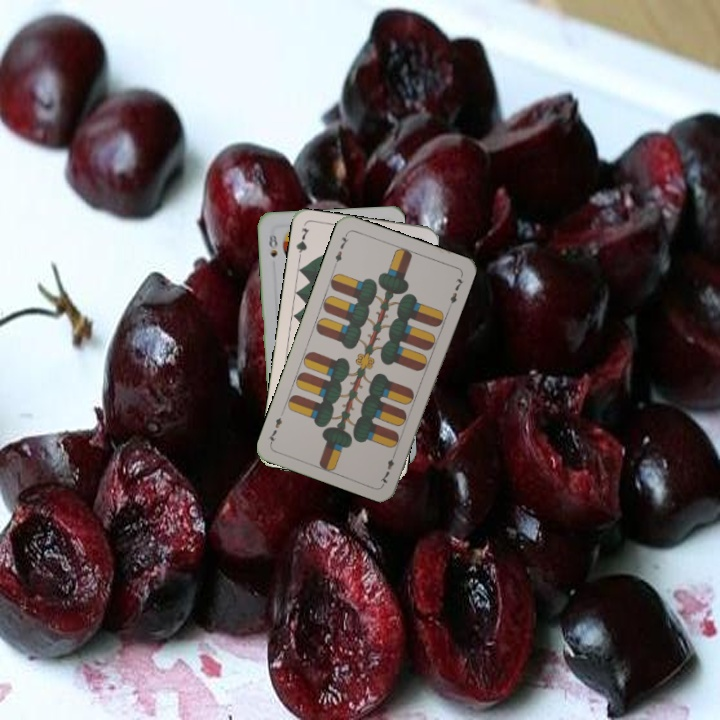E7: (376, 447, 399, 487), (330, 229, 351, 269)
G7: (292, 223, 312, 264)
S8: (265, 230, 280, 259)
